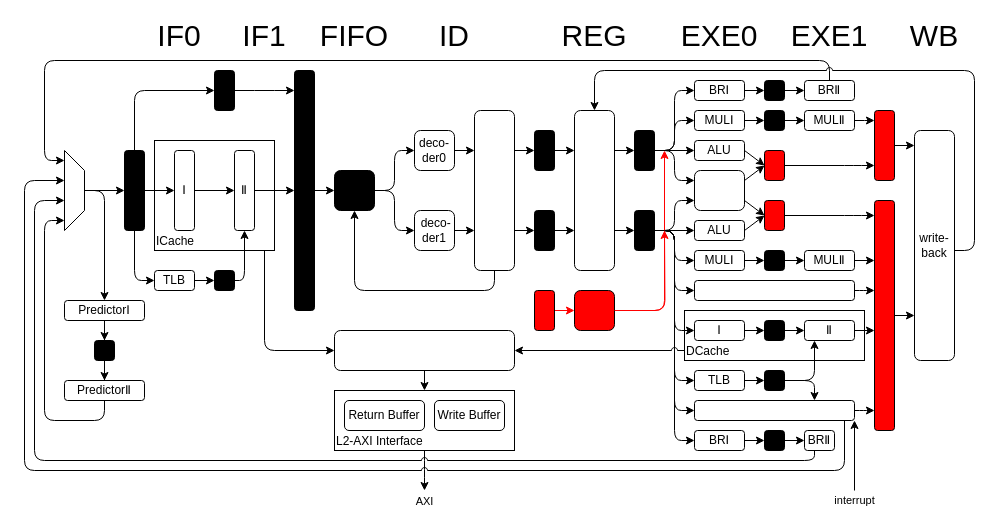
This 1000x525 diagram has some shape labels left out. The centre of each missing label's shape, as x and y in pixels:
Counter: the point at 719,190
CSR Control: the point at 774,410
dispat- cher: the point at 494,190
Divider: the point at 774,290
Fetch Buffer: the point at 354,190
forward: the point at 594,310
L2 Cache: the point at 424,350
PC: the point at 134,190
RF: the point at 594,190
